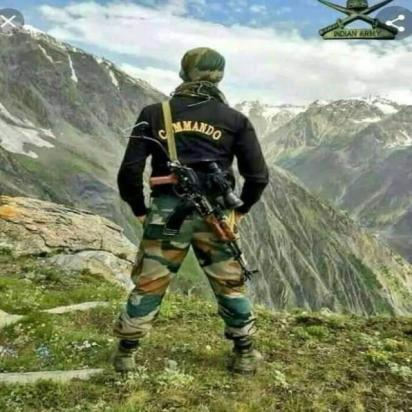Gun: (146, 158, 260, 282)
